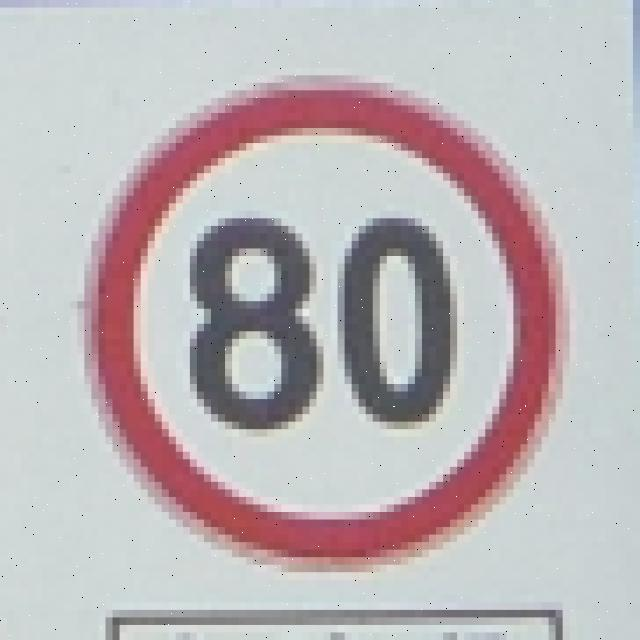speed limit 80: (81, 75, 564, 569)
